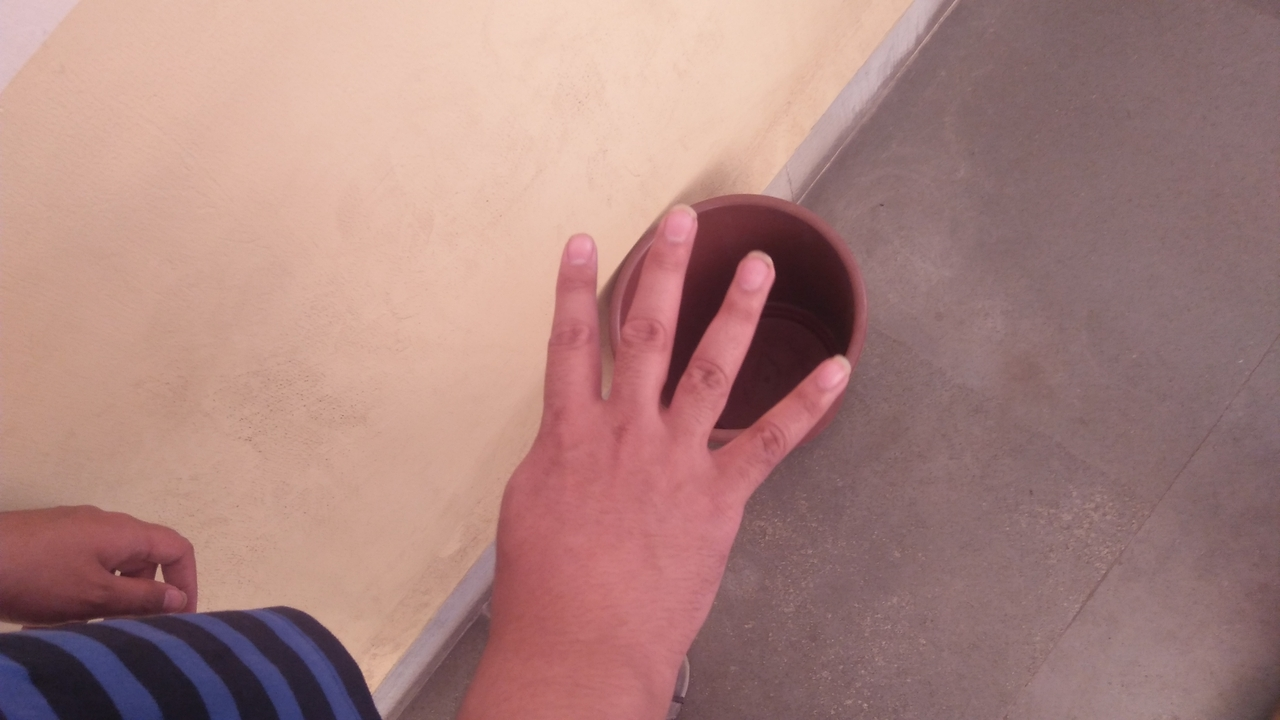fingertip: (644, 198, 704, 256), (803, 347, 858, 401), (720, 250, 774, 302), (554, 224, 608, 272)
